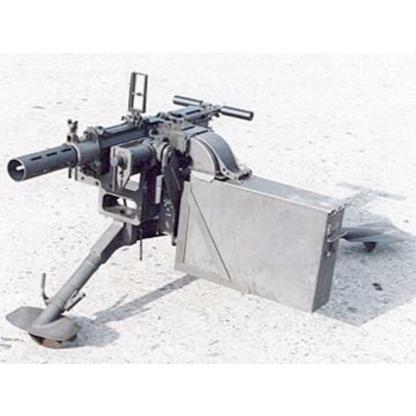gun: (41, 83, 262, 234)
